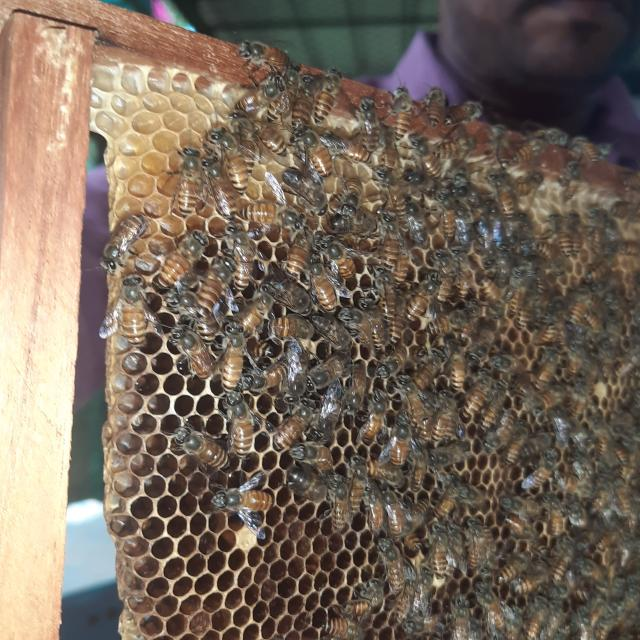honeybee: (88, 204, 154, 276), (159, 413, 232, 478), (102, 266, 156, 348), (146, 226, 213, 283), (165, 316, 211, 394), (163, 143, 209, 220), (238, 192, 320, 231), (219, 385, 260, 460), (235, 34, 302, 78), (205, 485, 284, 522), (200, 151, 239, 222), (219, 218, 255, 294), (282, 163, 329, 220), (272, 392, 319, 448), (189, 253, 228, 319), (301, 356, 362, 398), (248, 339, 300, 387), (433, 388, 470, 452), (215, 114, 246, 190), (298, 123, 340, 177), (250, 114, 292, 168), (380, 489, 418, 547), (318, 128, 379, 164), (343, 302, 380, 361), (326, 468, 356, 539), (409, 264, 442, 328), (239, 282, 274, 342), (312, 59, 342, 128), (428, 522, 461, 584), (474, 578, 509, 636), (321, 242, 360, 294), (273, 224, 304, 289), (222, 317, 246, 398), (292, 431, 341, 470), (400, 191, 434, 247), (429, 248, 463, 304), (432, 442, 489, 475), (309, 260, 342, 316), (282, 461, 328, 501), (441, 89, 490, 126), (437, 469, 476, 515), (513, 455, 559, 493), (381, 534, 410, 593), (375, 338, 414, 381), (356, 395, 390, 444), (413, 340, 447, 389), (356, 91, 384, 150), (364, 477, 391, 537), (372, 166, 402, 220), (387, 410, 417, 463), (482, 407, 517, 452), (466, 512, 492, 572), (408, 432, 431, 499), (398, 372, 424, 431), (398, 606, 452, 634), (418, 73, 444, 131), (375, 208, 401, 266), (438, 186, 462, 248), (342, 581, 382, 618), (554, 209, 586, 255), (479, 276, 511, 322), (500, 418, 530, 467), (535, 234, 570, 276), (491, 166, 518, 220), (373, 265, 400, 319), (511, 168, 556, 200), (572, 129, 614, 163), (446, 593, 476, 640), (468, 325, 496, 375), (338, 172, 369, 217), (576, 554, 612, 592), (390, 78, 412, 140), (461, 378, 496, 416), (495, 497, 548, 522), (436, 132, 480, 162), (321, 613, 368, 640), (449, 164, 484, 200), (494, 545, 532, 577), (531, 385, 572, 414), (603, 470, 628, 516), (585, 473, 610, 518), (492, 354, 542, 376), (567, 278, 588, 330), (600, 213, 626, 255), (416, 134, 440, 179), (534, 346, 561, 386), (506, 264, 528, 312), (481, 385, 504, 430), (617, 343, 640, 388), (531, 118, 577, 140), (555, 159, 583, 195), (542, 489, 564, 534), (394, 566, 414, 615), (569, 373, 590, 419), (584, 252, 612, 286), (584, 202, 603, 252), (425, 310, 468, 332), (590, 417, 612, 460), (595, 605, 622, 640), (525, 599, 548, 640), (612, 429, 636, 468), (510, 136, 542, 165), (519, 290, 541, 332), (448, 346, 468, 391), (551, 466, 583, 494), (540, 305, 560, 348), (496, 235, 515, 279), (405, 498, 427, 534), (564, 327, 584, 366), (504, 603, 525, 640), (552, 541, 572, 579), (595, 526, 620, 556), (513, 569, 544, 593), (390, 316, 409, 352), (582, 303, 602, 334), (576, 610, 596, 640), (566, 497, 586, 527), (616, 233, 640, 257), (614, 197, 640, 219), (467, 299, 489, 321), (619, 172, 640, 190)
